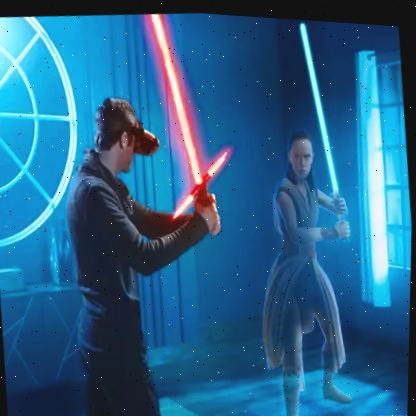lightsaber: (293, 20, 356, 248)
sith_lightsaber: (144, 10, 242, 244)
